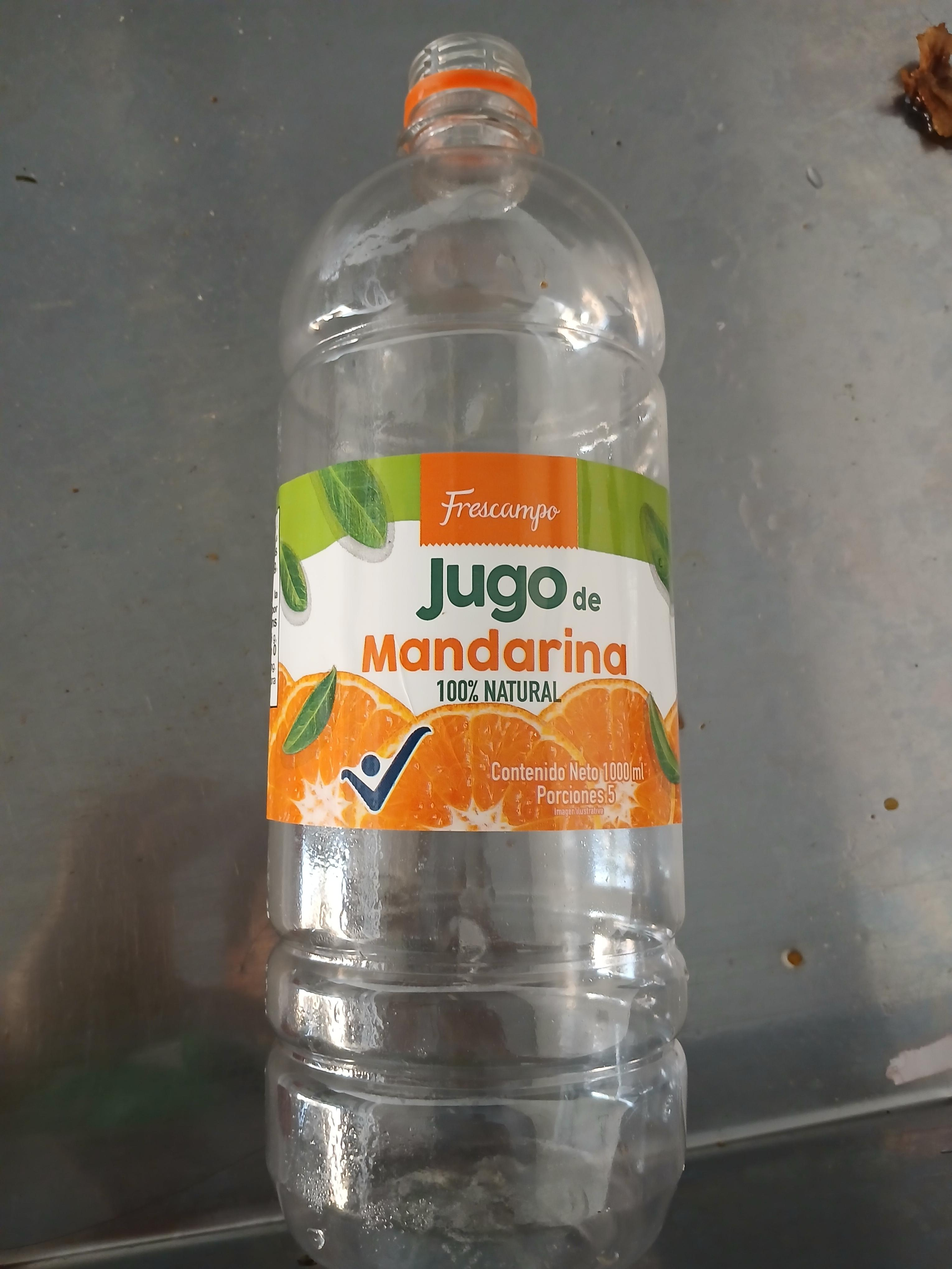Plastico: (267, 30, 683, 1269)
